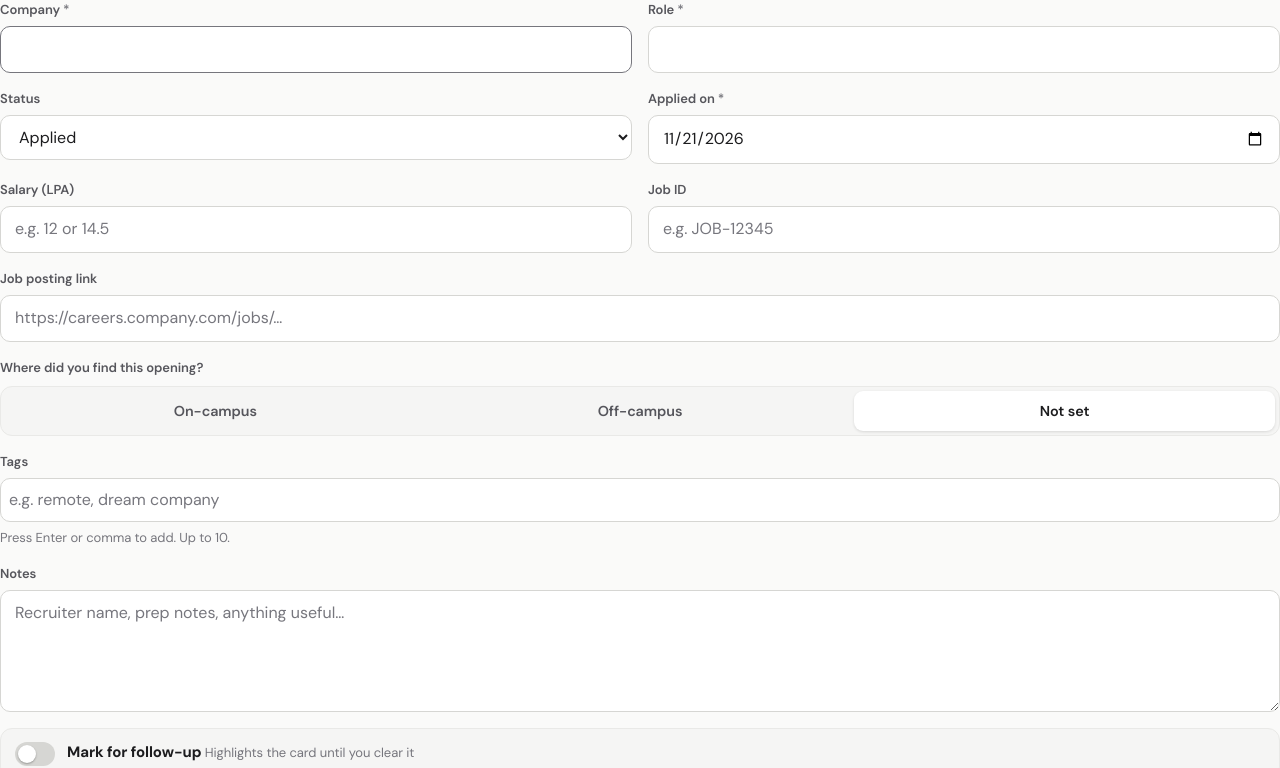
ApplicationForm › validates a field when the user leaves it
The width and height of the screenshot is (1280, 768).
Type "not a link" into the field labelled "Job posting link". click: (640, 318)
box: [0, 295, 1279, 342]
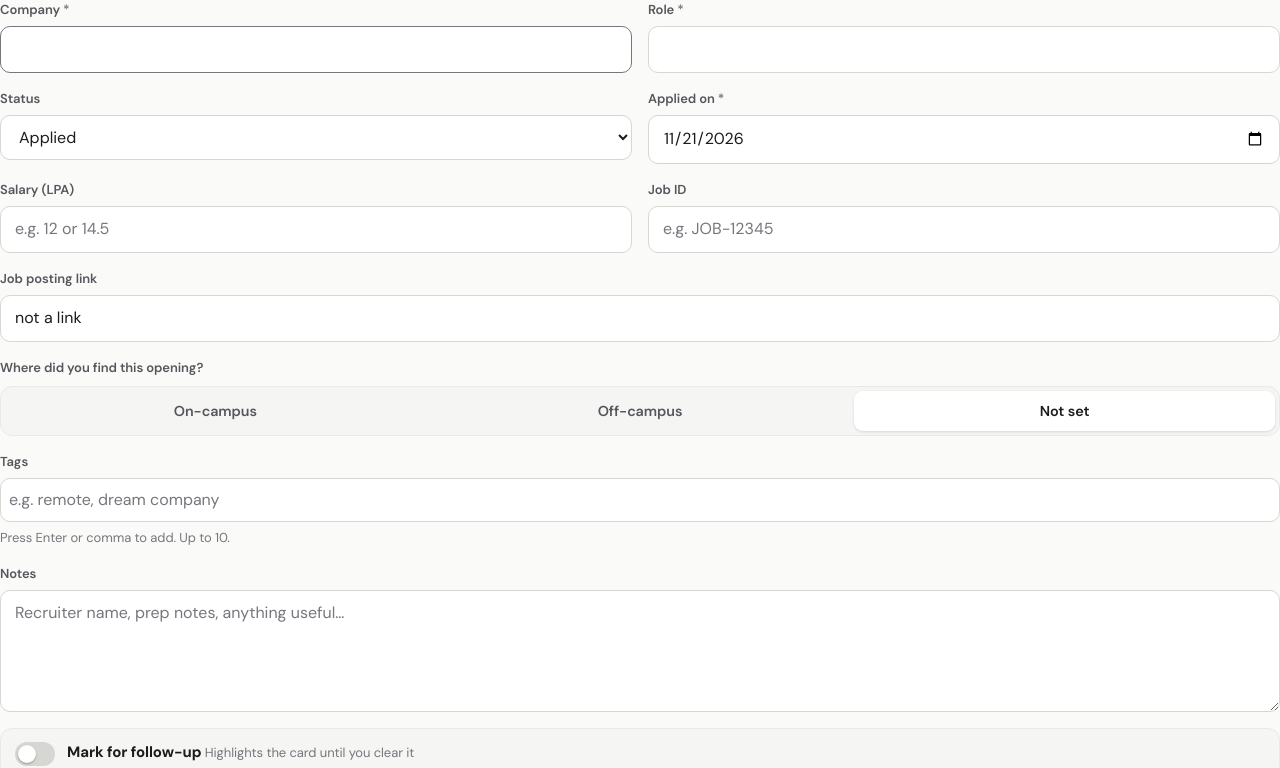
Expected: the text "full link" is not shown
Leave the field labelled "Job posting link", box [0, 295, 1279, 342]
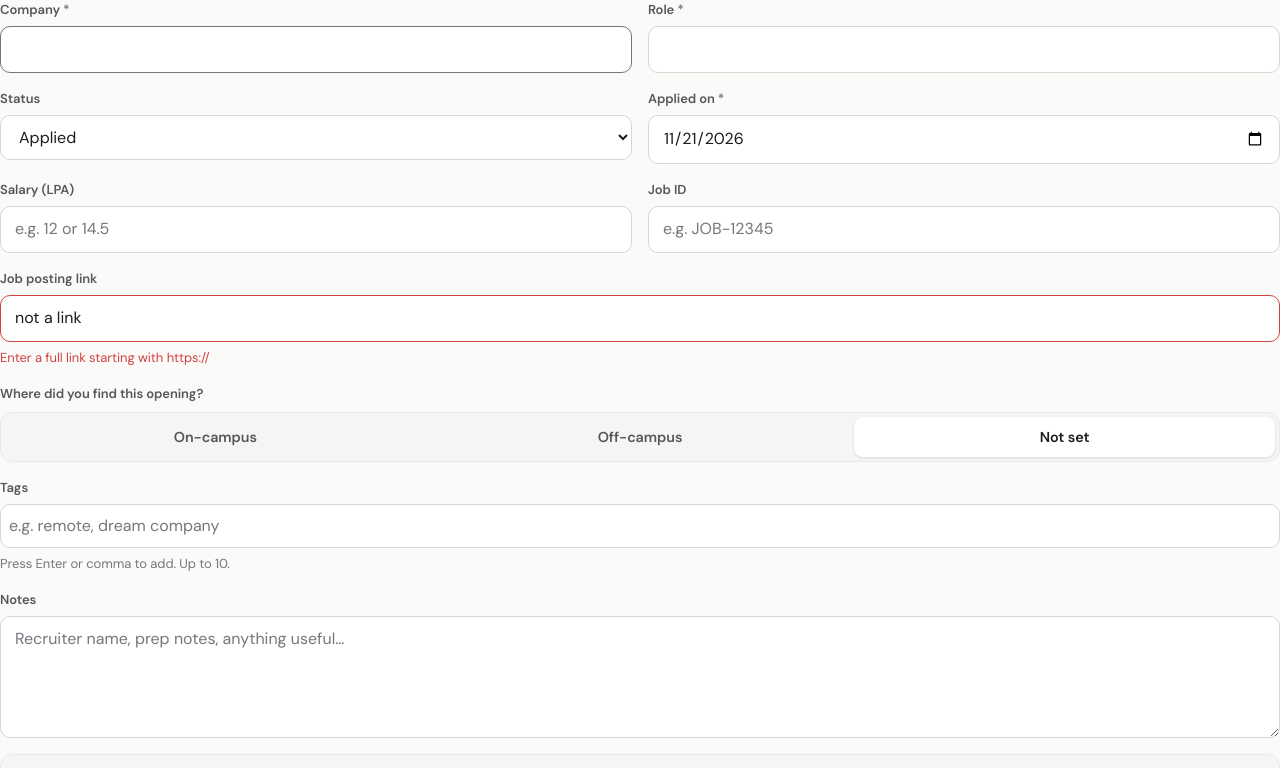
Expected: the text "Enter a full link starting with https://" is shown, [0, 349, 210, 366]
